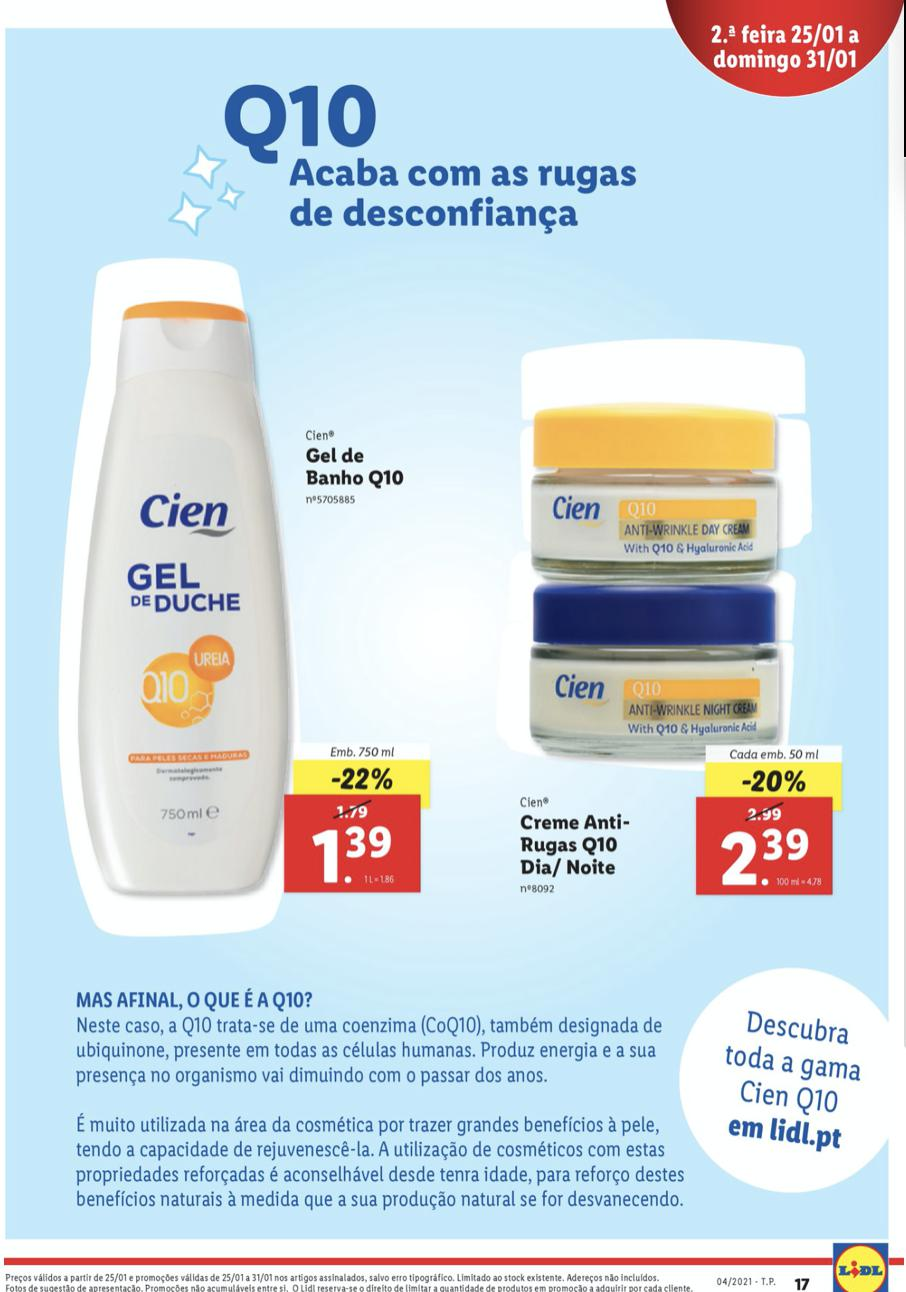name: (517, 809, 635, 880), (301, 441, 409, 491)
price: (311, 823, 404, 888), (719, 828, 811, 890)
product: (37, 257, 433, 957), (491, 332, 857, 912)
promotion: (743, 765, 809, 799), (324, 764, 399, 793)
